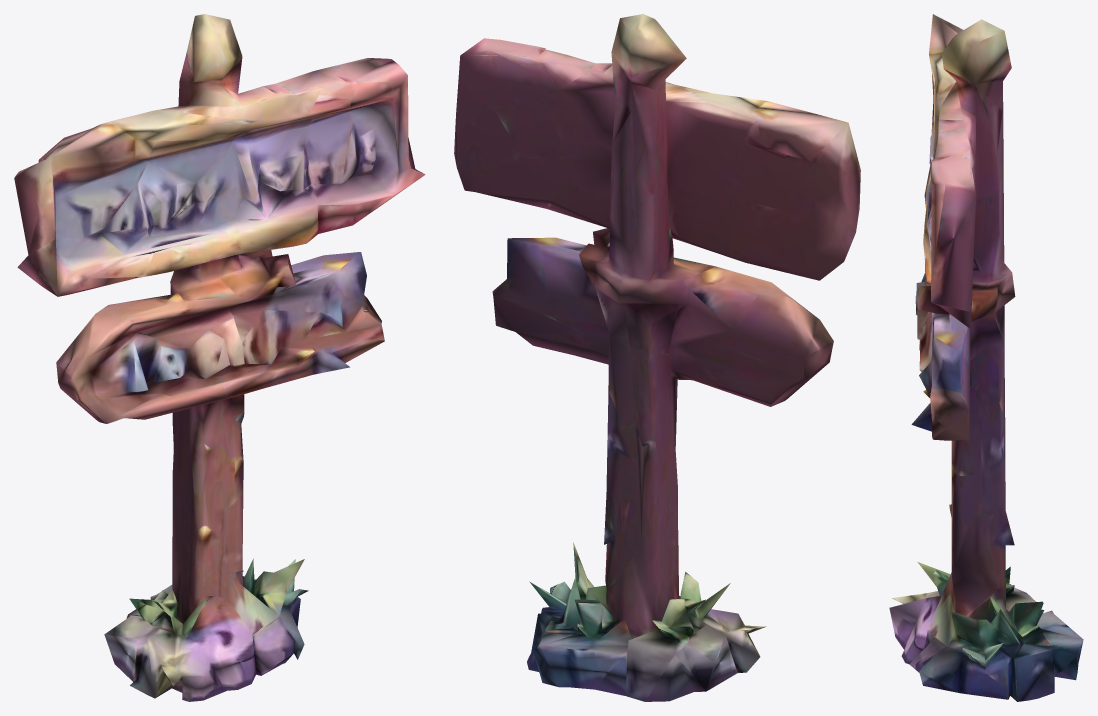
The model's file is signpost.glb.
3 views of the same model, side by side, from view 1: azimuth 30°, elevation 25°; view 2: azimuth 150°, elevation 25°; view 3: azimuth 270°, elevation 25° (orthographic).
Visible parts, largest first — view 1: tripo_node_e983a457-a8a4-458c-97bd-30ed69e071d7; view 2: tripo_node_e983a457-a8a4-458c-97bd-30ed69e071d7; view 3: tripo_node_e983a457-a8a4-458c-97bd-30ed69e071d7.
Boxes of the visible parts, x1,y1,x2,y2 form: tripo_node_e983a457-a8a4-458c-97bd-30ed69e071d7: (14,14,425,701); tripo_node_e983a457-a8a4-458c-97bd-30ed69e071d7: (454,14,860,701); tripo_node_e983a457-a8a4-458c-97bd-30ed69e071d7: (889,14,1083,701).
Bounding box in the file's own units: 0.6261 × 0.9789 × 0.2689.
1 material, 1 textured.
